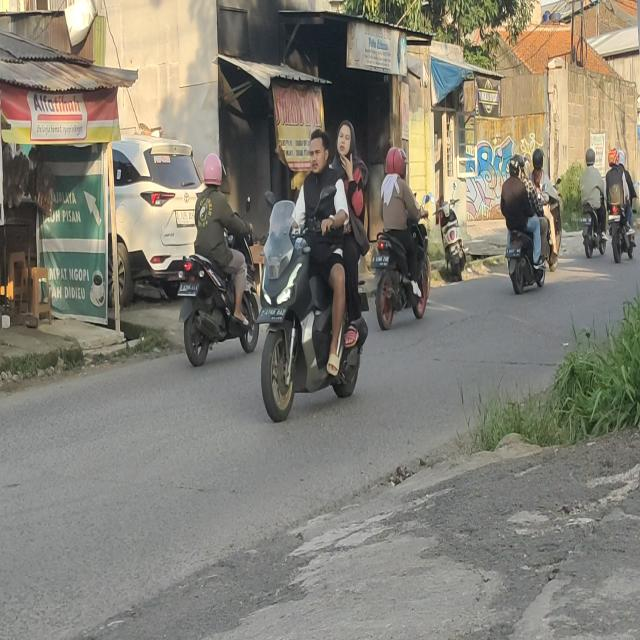helmet: (204, 154, 223, 187), (387, 148, 405, 175), (533, 147, 546, 168), (509, 154, 520, 178), (584, 146, 596, 168), (608, 147, 619, 169), (521, 156, 531, 180), (618, 150, 626, 168)
no-helmet: (336, 119, 356, 160), (309, 129, 329, 169)
